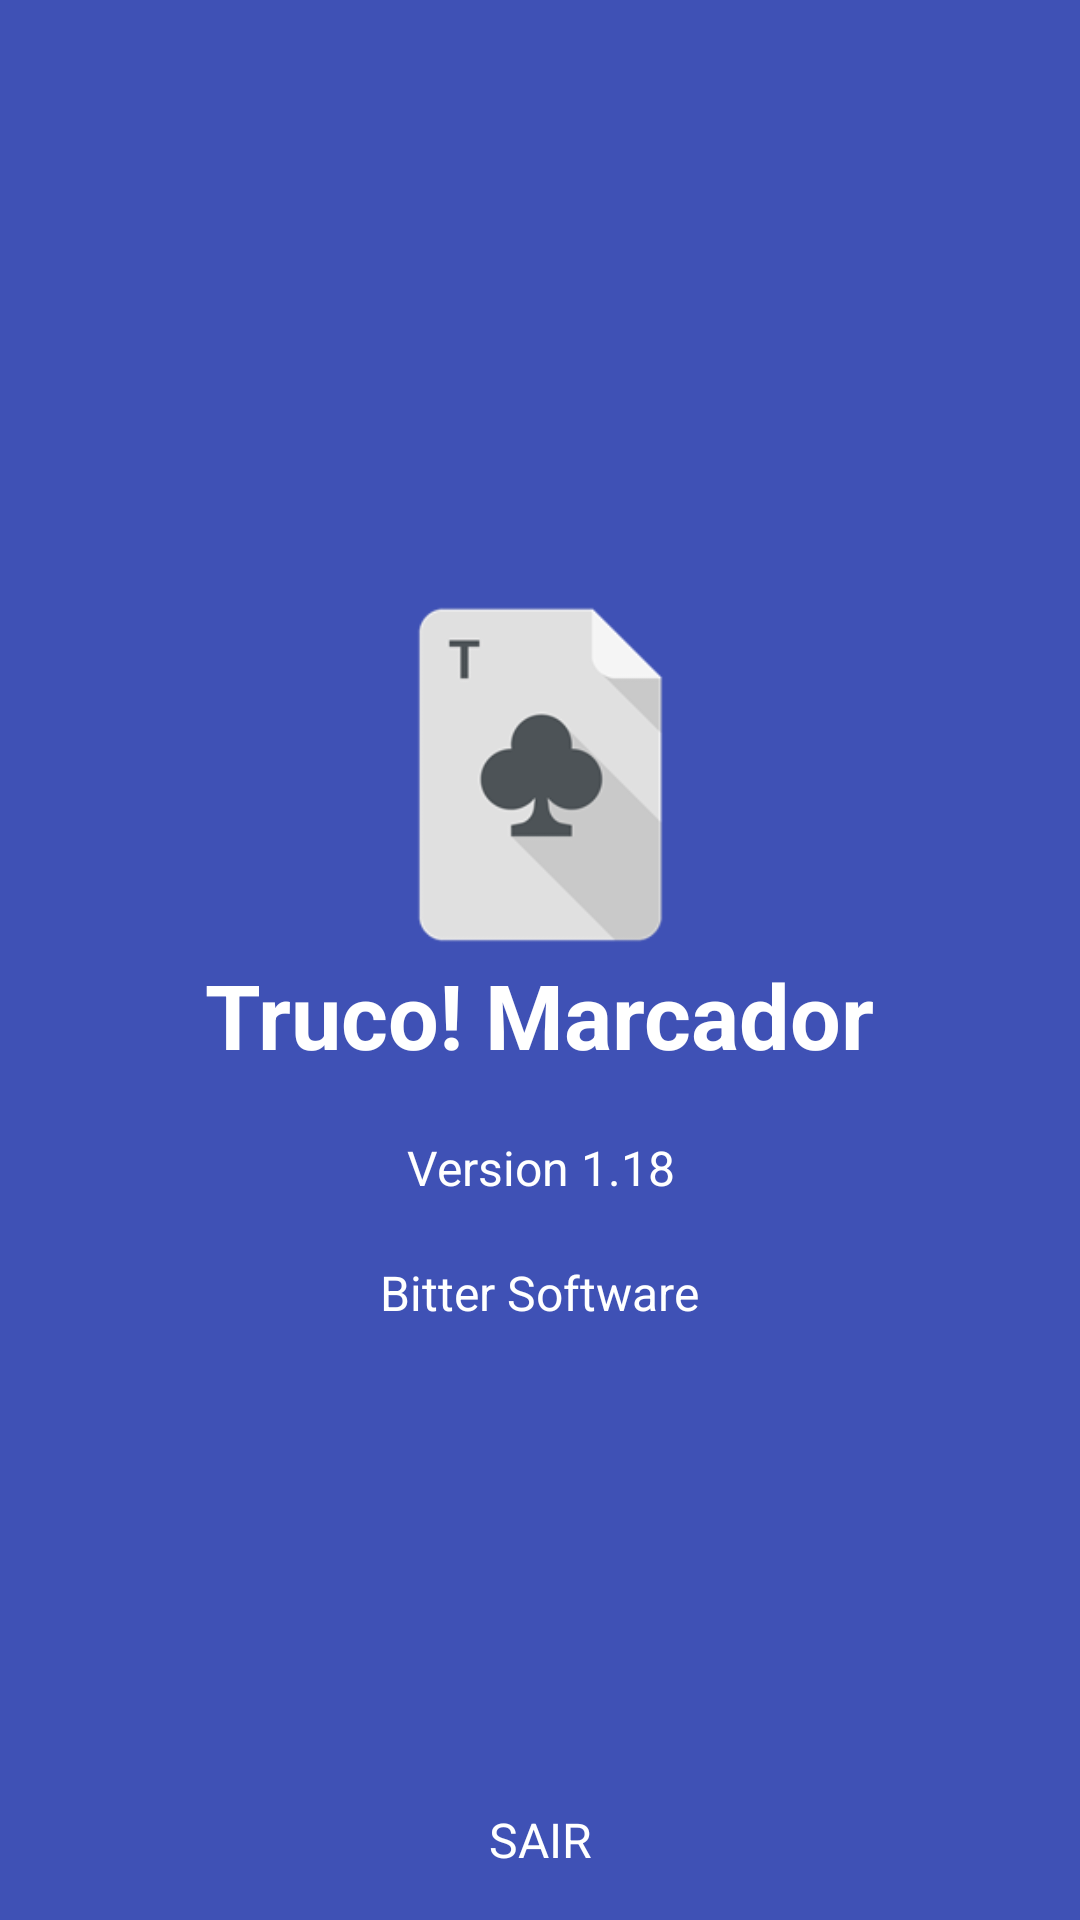

Icon click points for this 1080w x 1920h phone screenshot, format (x=x, y=y):
app: (x=540, y=774)
